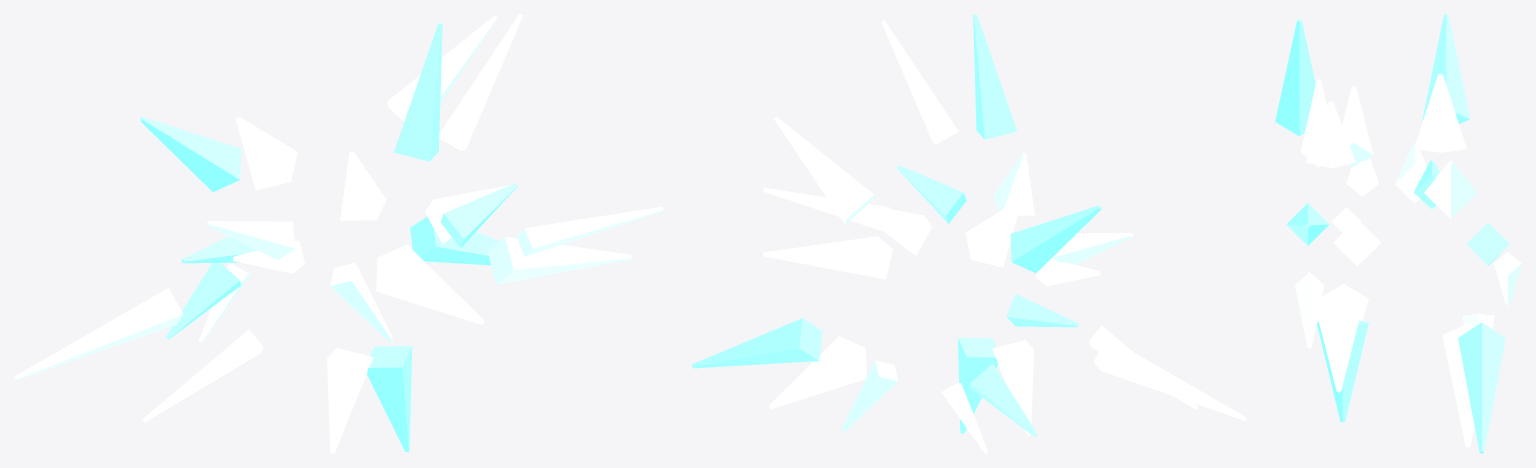
File: frost.glb
3 views of the same model, side by side, from view 1: azimuth 30°, elevation 25°; view 2: azimuth 150°, elevation 25°; view 3: azimuth 270°, elevation 25° (orthographic). The views are drawn at different scales.
Visible parts, largest first — view 1: Frost Shatter dimensional effect.001; view 2: Frost Shatter dimensional effect.001; view 3: Frost Shatter dimensional effect.001.
Part boxes in pixels (box(x1,y1,x2,y2)): Frost Shatter dimensional effect.001: box(14, 14, 663, 453); Frost Shatter dimensional effect.001: box(692, 14, 1246, 453); Frost Shatter dimensional effect.001: box(1275, 14, 1521, 453).
Bounding box in the file's own units: 1.57 × 1.12 × 0.6185.
